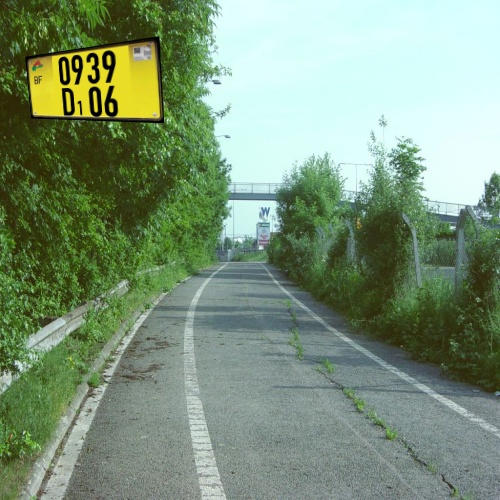plate: (19, 31, 182, 131)
